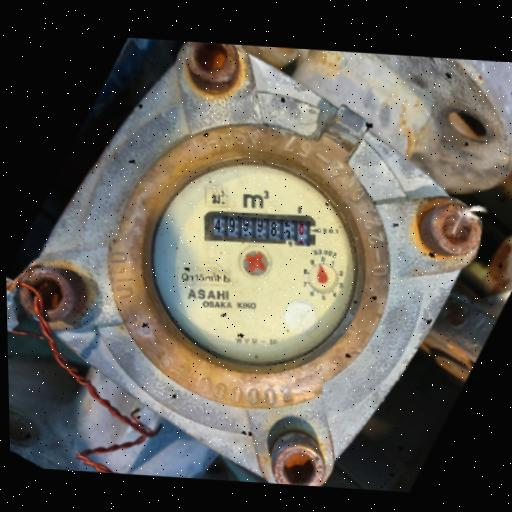3: (283, 218, 294, 239)
4: (212, 215, 225, 235)
8: (296, 220, 306, 245), (269, 217, 280, 238)
9: (255, 216, 266, 237), (227, 216, 238, 236), (241, 217, 252, 237)
border_water_meter_number: (203, 208, 318, 247)
